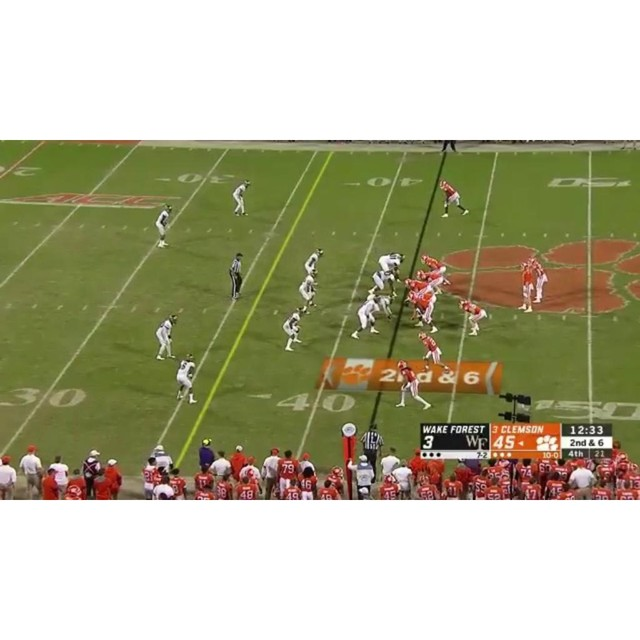american-football-player: (395, 359, 432, 410), (418, 330, 454, 380), (351, 295, 381, 340), (407, 292, 439, 332), (458, 299, 490, 337), (175, 352, 197, 404), (155, 313, 179, 360), (282, 306, 306, 352), (440, 180, 469, 217), (366, 266, 399, 297), (529, 256, 549, 304), (518, 261, 535, 314), (421, 254, 450, 285), (154, 204, 173, 248), (299, 271, 318, 312), (232, 179, 252, 217), (378, 252, 404, 281), (370, 294, 396, 321), (304, 248, 324, 277), (403, 277, 431, 297)
referee: (228, 252, 243, 300)
